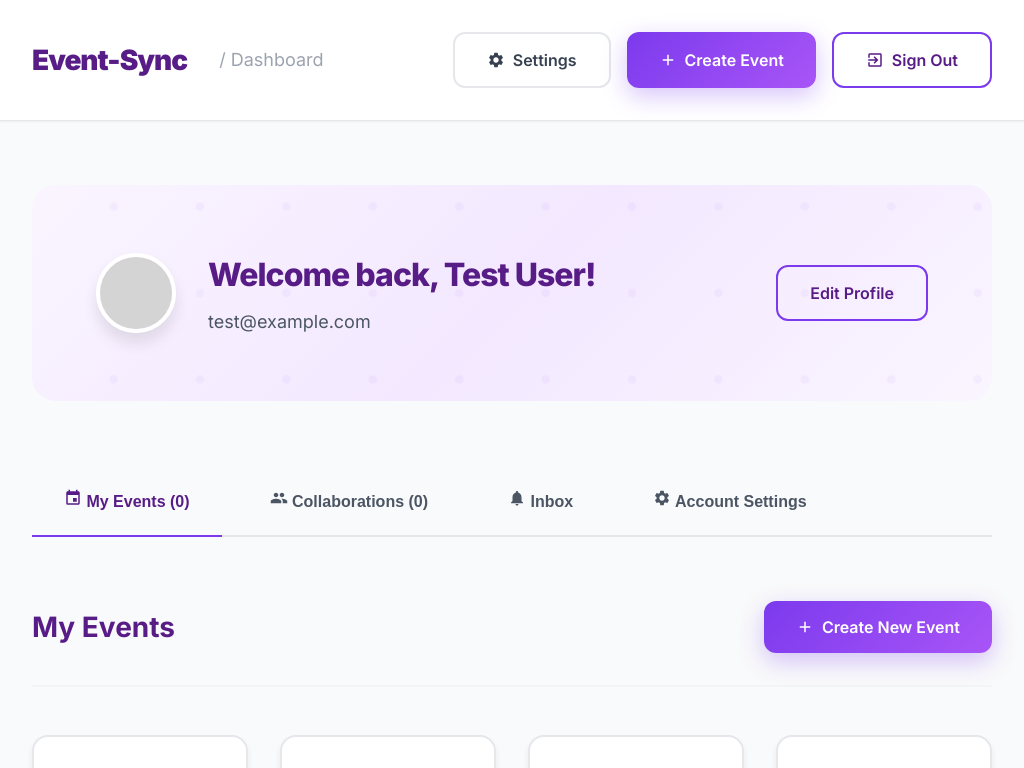
Scenario: Dashboard Component › Tab Navigation › should switch between events and collaborations tabs
Check: the button "My Events (0)" is shown, box [32,465,222,537]
Note: Switch to collaborations tab
Step 1. Click the button "Collaborations (0)" → [349, 501], box [238,465,460,537]
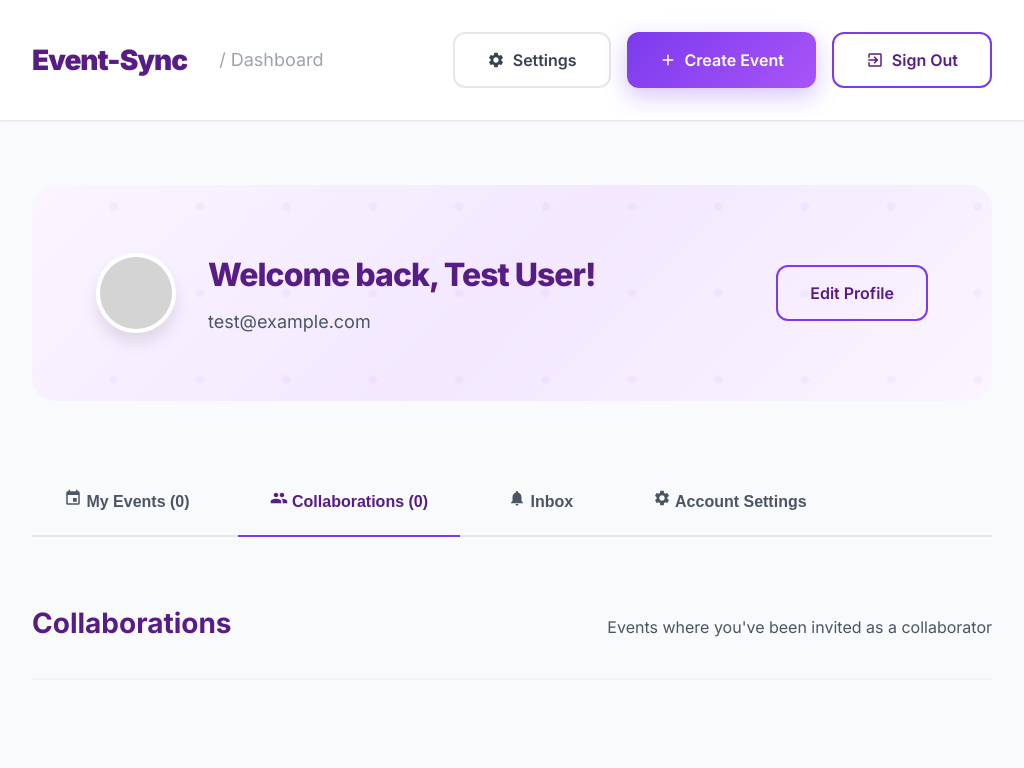
Check: the text "Events where you've been invited as a collaborator" is shown, box [607,615,992,640]
